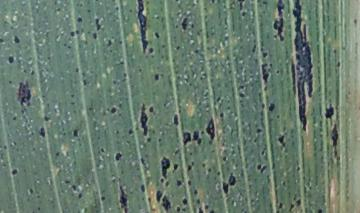tarspot: (286, 1, 321, 134), (128, 1, 153, 54), (271, 1, 287, 44), (13, 80, 33, 111), (114, 179, 130, 213), (138, 101, 151, 142), (329, 122, 343, 158), (204, 114, 220, 145), (157, 153, 172, 183), (321, 99, 337, 126), (273, 131, 291, 153), (258, 59, 272, 86), (179, 127, 193, 152), (191, 126, 204, 150), (91, 13, 105, 35), (232, 1, 249, 19), (225, 171, 241, 190), (134, 153, 150, 170), (34, 123, 47, 142), (219, 178, 231, 197), (69, 126, 82, 143), (170, 111, 183, 128), (284, 198, 299, 212), (112, 150, 125, 166), (178, 16, 190, 33), (9, 164, 21, 180), (170, 159, 182, 175), (161, 195, 172, 212), (150, 70, 163, 84), (108, 102, 120, 117), (153, 185, 163, 203), (151, 28, 164, 41), (5, 52, 16, 67), (74, 13, 86, 26), (103, 36, 115, 49), (125, 127, 138, 139), (274, 200, 286, 213), (266, 101, 277, 115), (255, 123, 266, 137), (74, 189, 86, 201), (139, 180, 148, 196), (42, 114, 53, 127), (179, 196, 192, 207), (174, 177, 184, 191), (67, 27, 78, 39), (204, 166, 216, 177), (12, 33, 22, 46), (26, 184, 36, 197), (98, 192, 108, 205), (220, 152, 229, 166), (334, 56, 343, 70), (89, 31, 100, 42), (147, 104, 157, 116), (185, 161, 193, 176), (255, 161, 265, 173), (174, 42, 183, 55), (68, 183, 78, 194), (261, 48, 271, 59), (54, 147, 63, 159), (28, 68, 38, 78), (147, 46, 157, 56), (293, 195, 303, 205), (314, 204, 325, 213), (197, 205, 209, 213), (238, 92, 248, 101), (80, 76, 88, 87), (118, 57, 125, 69), (191, 188, 200, 197), (239, 83, 247, 93), (98, 144, 105, 155), (63, 177, 71, 186), (193, 46, 201, 55), (11, 113, 18, 123), (74, 65, 81, 74), (1, 37, 7, 46), (165, 179, 170, 189), (204, 202, 210, 209)
